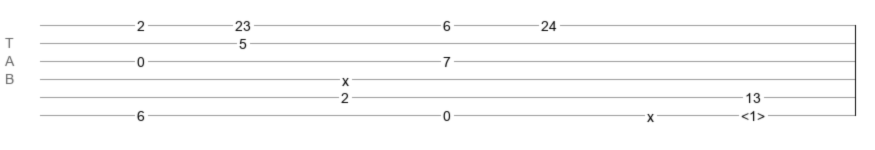0: (137, 54, 145, 64), (443, 108, 451, 118)
13: (745, 90, 761, 100)
2: (137, 18, 145, 28), (341, 90, 349, 100)
23: (235, 18, 251, 28)
24: (541, 18, 557, 28)
5: (239, 36, 247, 46)
6: (137, 108, 145, 118), (443, 18, 451, 28)
7: (443, 54, 451, 64)
harmonic: (741, 108, 765, 118)
x: (342, 73, 349, 81), (647, 109, 654, 117)
